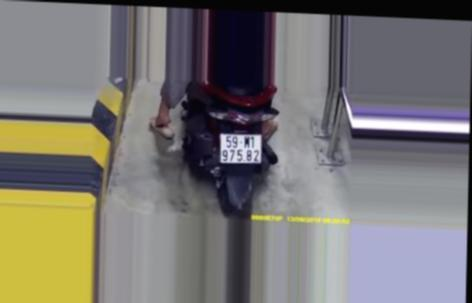License_Plate: (216, 130, 264, 168)
